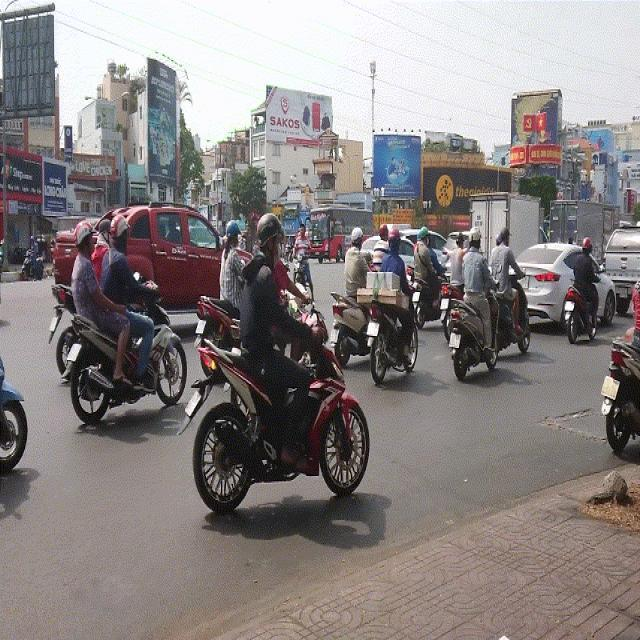Helmet: (252, 211, 287, 257), (71, 215, 98, 257), (107, 213, 135, 250), (221, 217, 246, 249), (346, 223, 367, 248), (383, 226, 404, 251), (466, 225, 485, 249), (414, 225, 434, 245), (495, 225, 513, 247), (580, 233, 596, 256), (454, 228, 466, 248)
bike: (186, 302, 373, 516), (60, 270, 189, 424), (358, 277, 422, 389), (447, 280, 502, 379), (193, 277, 245, 361), (329, 278, 374, 366), (562, 258, 605, 344), (409, 257, 449, 328)
rider: (244, 212, 320, 469), (69, 215, 135, 388), (104, 212, 153, 393), (381, 224, 415, 364), (460, 227, 495, 353), (491, 225, 522, 334), (218, 217, 248, 312), (571, 234, 599, 334), (344, 223, 374, 297), (414, 224, 439, 293), (447, 230, 469, 290)
